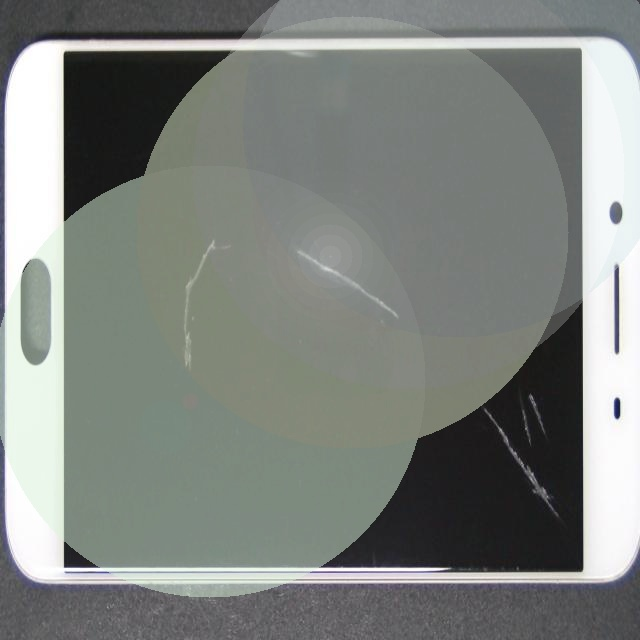scratch: (254, 175, 640, 619), (256, 168, 640, 606), (262, 207, 558, 433), (110, 151, 323, 390)
